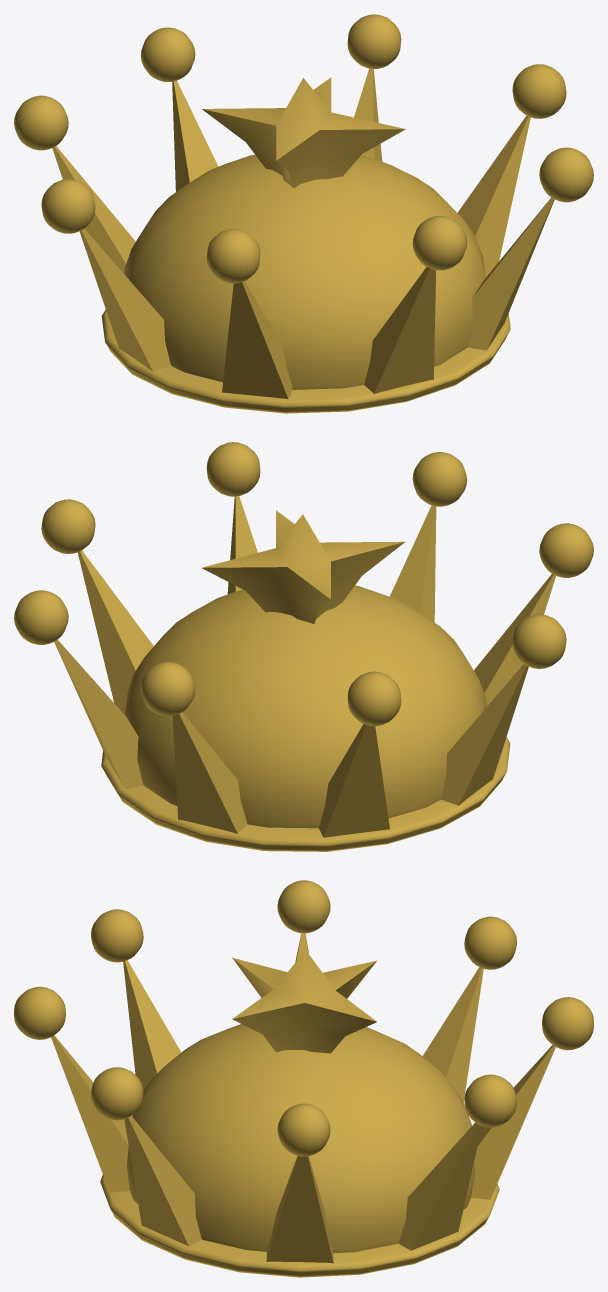
File: crown.obj
3 renders of one model, top to bottom at view 1: azimuth 30°, elevation 25°; view 2: azimuth 150°, elevation 25°; view 3: azimuth 270°, elevation 25°, orthographic. The views are drawn at different scales.
Visible parts, largest first — view 1: polySurface793; view 2: polySurface793; view 3: polySurface793.
Part boxes in pixels (<box>): polySurface793: <box>14,14,593,413</box>; polySurface793: <box>14,442,593,851</box>; polySurface793: <box>14,880,593,1277</box>.
Size of the model in its own units: 5.85 by 2.77 by 5.85.
Materials: 1 (1 with a texture image).
